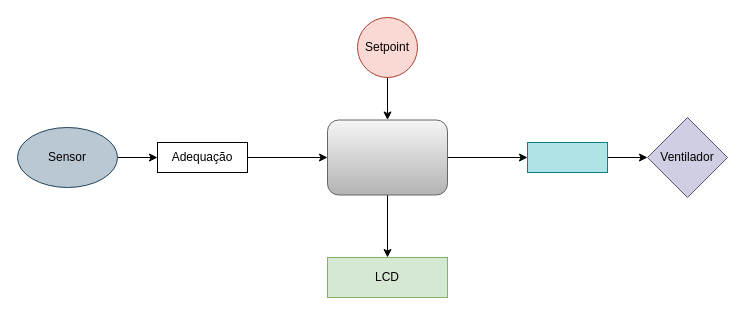
Image size: 745x315. Some labels were removed from this diagram. The shapes that lost their labels are listed below. From the top down, each one's box as (x1, y1, x2, y2) in pixels, then its label:
(326, 119, 448, 195): μ C
(526, 142, 608, 172): Acionamento
